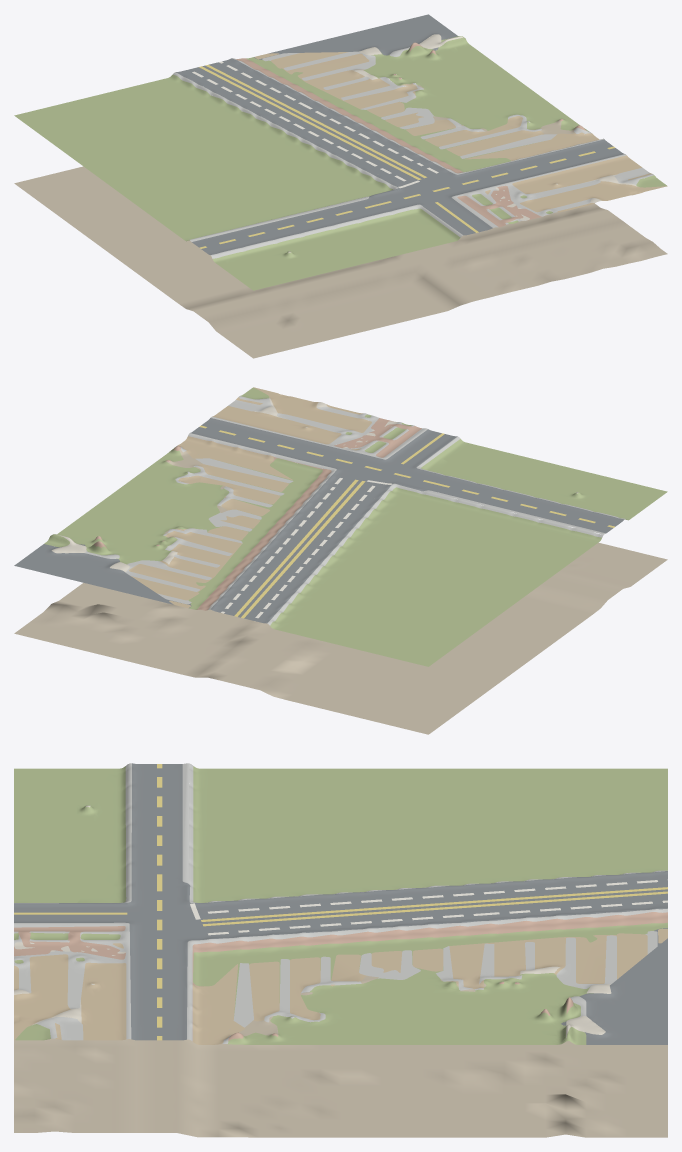
The picture shows the model from 3 angles, top to bottom: view 1: azimuth 30°, elevation 25°; view 2: azimuth 150°, elevation 25°; view 3: azimuth 270°, elevation 25°; orthographic projection. The views are drawn at different scales.
Visible parts, largest first — view 1: s_-8_-5__grass, s_-8_-5__soil, s_-8_-5__asphalt, s_-8_-5__timber_deck, s_-8_-5__stone_paving, s_-8_-5__brick_paving, s_-8_-5__yellow_marking, s_-8_-5__white_marking, s_-8_-5__paving; view 2: s_-8_-5__grass, s_-8_-5__soil, s_-8_-5__asphalt, s_-8_-5__timber_deck, s_-8_-5__stone_paving, s_-8_-5__brick_paving, s_-8_-5__yellow_marking, s_-8_-5__white_marking, s_-8_-5__paving; view 3: s_-8_-5__grass, s_-8_-5__soil, s_-8_-5__asphalt, s_-8_-5__timber_deck, s_-8_-5__stone_paving, s_-8_-5__brick_paving, s_-8_-5__yellow_marking, s_-8_-5__white_marking, s_-8_-5__paving.
Boxes of the visible parts, x1,y1,x2,y2 form: s_-8_-5__grass: [14, 36, 666, 290]; s_-8_-5__soil: [14, 84, 667, 358]; s_-8_-5__asphalt: [176, 14, 623, 254]; s_-8_-5__timber_deck: [255, 52, 667, 212]; s_-8_-5__stone_paving: [173, 47, 653, 258]; s_-8_-5__brick_paving: [236, 42, 586, 227]; s_-8_-5__yellow_marking: [199, 64, 615, 248]; s_-8_-5__white_marking: [187, 61, 438, 188]; s_-8_-5__paving: [288, 34, 637, 252]; s_-8_-5__grass: [44, 387, 667, 666]; s_-8_-5__soil: [14, 449, 667, 734]; s_-8_-5__asphalt: [14, 418, 624, 623]; s_-8_-5__timber_deck: [129, 387, 371, 608]; s_-8_-5__stone_paving: [84, 396, 625, 625]; s_-8_-5__brick_paving: [92, 418, 421, 610]; s_-8_-5__yellow_marking: [199, 425, 614, 618]; s_-8_-5__white_marking: [221, 478, 391, 618]; s_-8_-5__paving: [51, 397, 578, 572]; s_-8_-5__grass: [14, 766, 667, 1044]; s_-8_-5__soil: [14, 916, 667, 1137]; s_-8_-5__asphalt: [14, 763, 667, 1044]; s_-8_-5__timber_deck: [14, 928, 667, 1044]; s_-8_-5__stone_paving: [14, 763, 667, 1043]; s_-8_-5__brick_paving: [14, 912, 667, 1041]; s_-8_-5__yellow_marking: [14, 764, 667, 1040]; s_-8_-5__white_marking: [190, 879, 667, 935]; s_-8_-5__paving: [14, 805, 611, 1037].
Bounding box in the file's own units: 128 × 23.05 × 128.
